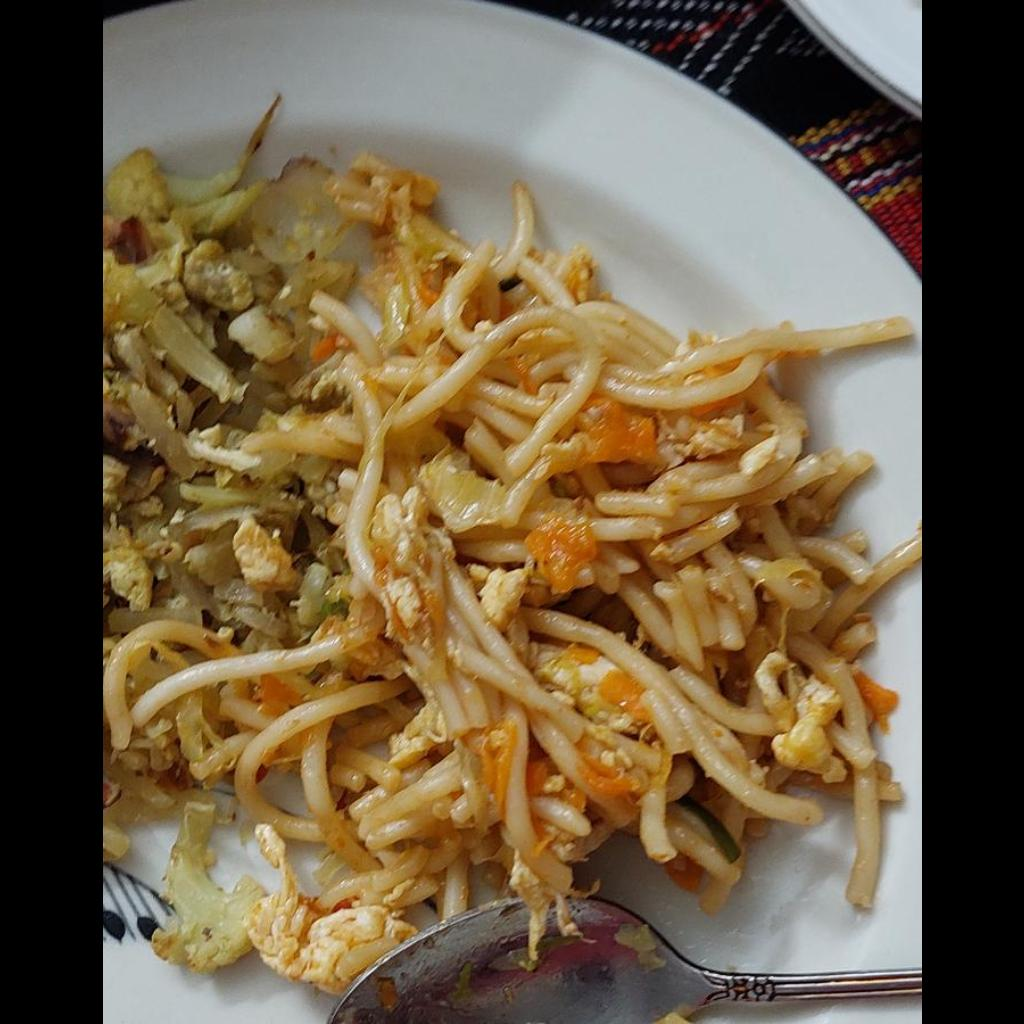noodles: (102, 155, 918, 998)
vaji: (102, 145, 337, 619)
